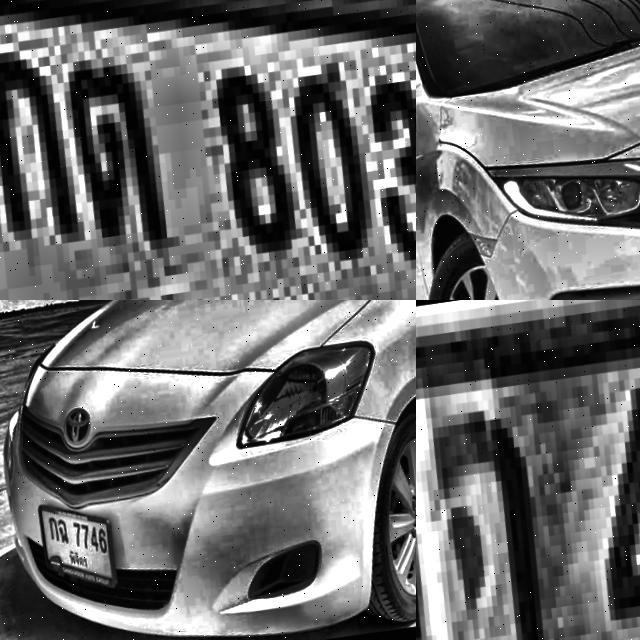license-plate: (0, 0, 416, 300), (416, 300, 640, 640), (26, 486, 149, 609)
